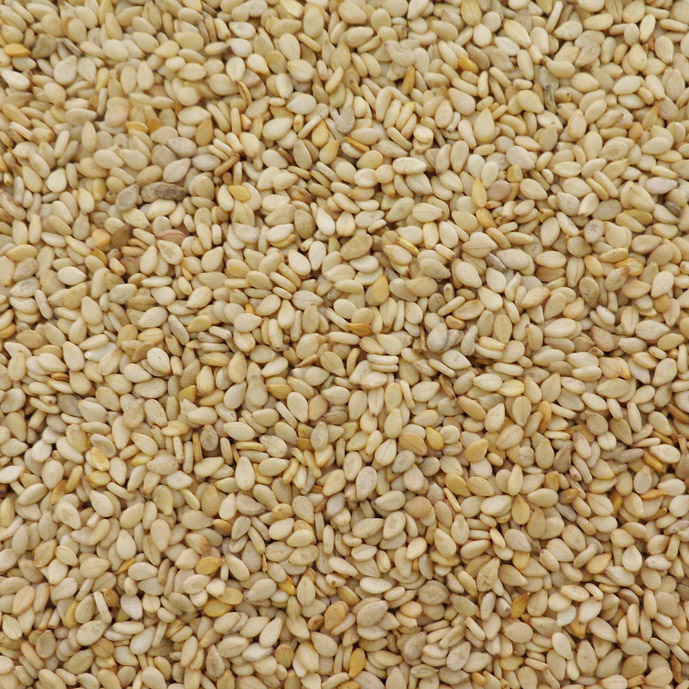seed: (1, 1, 689, 689)
